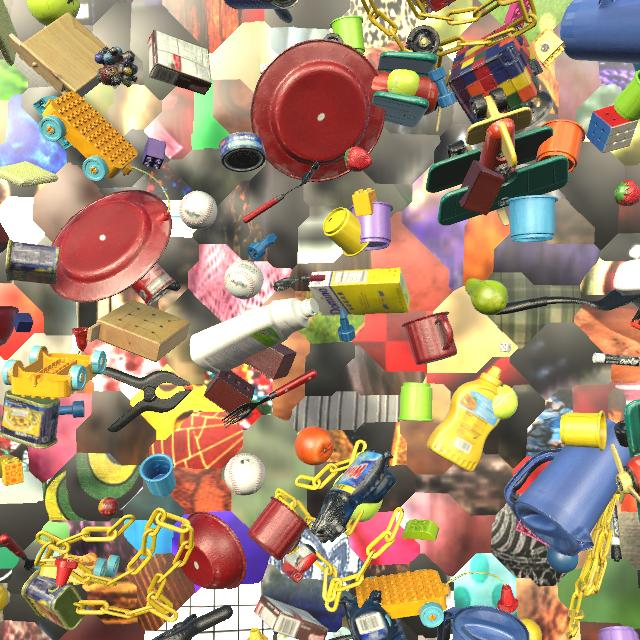ycb_002_master_chef_can: (223, 0, 299, 10)
ycb_004_sugar_box: (309, 267, 410, 316)
ycb_005_tomato_soup_can: (131, 263, 176, 306)
ycb_006_mustard_bottle: (426, 366, 502, 472), (247, 627, 268, 640)
ycb_007_tuna_fish_can: (219, 132, 266, 172)
ycb_008_pudding_box: (148, 30, 212, 95), (254, 595, 328, 640)
ycb_010_potted_meat_can: (21, 569, 87, 631), (0, 389, 60, 449), (5, 239, 60, 285)
ycb_011_banana: (0, 455, 14, 478)
ycb_012_strawberry: (344, 147, 372, 172), (614, 180, 640, 206)
ycb_014_lemon: (520, 618, 542, 640), (0, 585, 8, 611)
ycb_016_pear: (465, 278, 508, 315)
ycb_017_orange: (295, 426, 334, 465)
